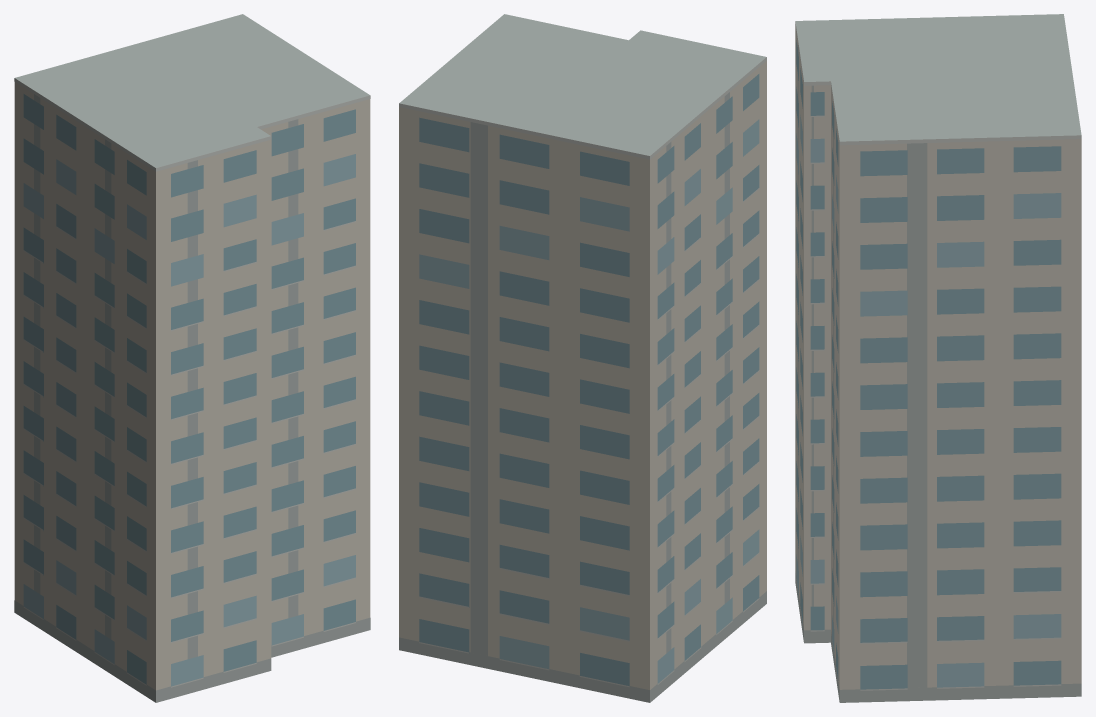
File: residential-8ab6e98b-01ec-4a20-b09f-ba782e883baa.glb
The picture shows the model from 3 angles, left to right: view 1: azimuth 30°, elevation 25°; view 2: azimuth 150°, elevation 25°; view 3: azimuth 270°, elevation 25°; orthographic projection. The views are drawn at different scales.
Parts seen in each view (by area): view 1: residential-8ab6e98b-01ec-4a20-b09f-ba782e883baa.tmp; view 2: residential-8ab6e98b-01ec-4a20-b09f-ba782e883baa.tmp; view 3: residential-8ab6e98b-01ec-4a20-b09f-ba782e883baa.tmp.
Boxes of the visible parts, left/top/right/bottom form: residential-8ab6e98b-01ec-4a20-b09f-ba782e883baa.tmp: left=14, top=14, right=370, bottom=702; residential-8ab6e98b-01ec-4a20-b09f-ba782e883baa.tmp: left=399, top=14, right=766, bottom=702; residential-8ab6e98b-01ec-4a20-b09f-ba782e883baa.tmp: left=795, top=14, right=1081, bottom=702.
Bounding box in the file's own units: 18.05 × 37 × 17.11.
